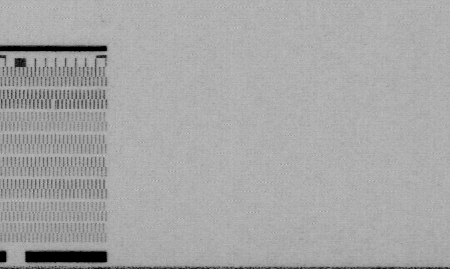Oblique printing: (48, 100, 60, 111)
